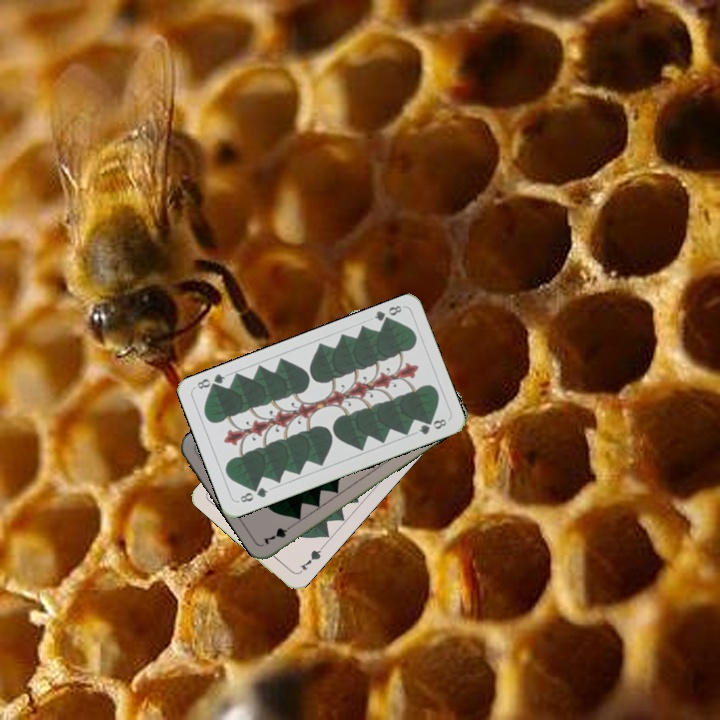G7: (259, 519, 297, 548), (294, 543, 325, 576)
G8: (370, 301, 404, 327), (236, 483, 271, 505)
